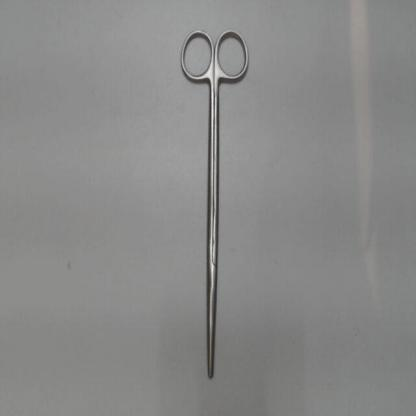9 Metzenbaum Scissors: (177, 20, 254, 383)
